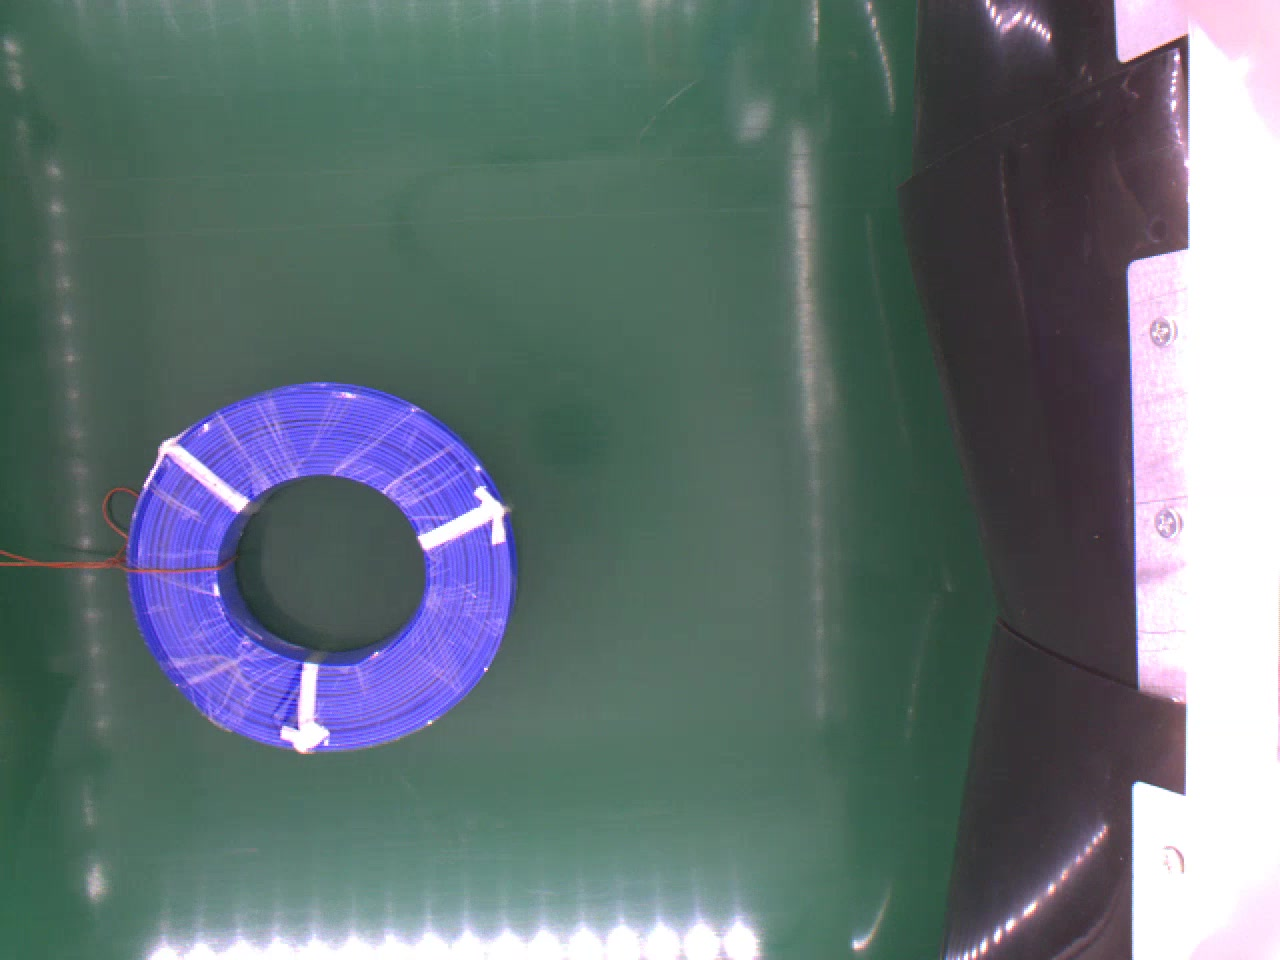blue: (128, 379, 519, 750)
